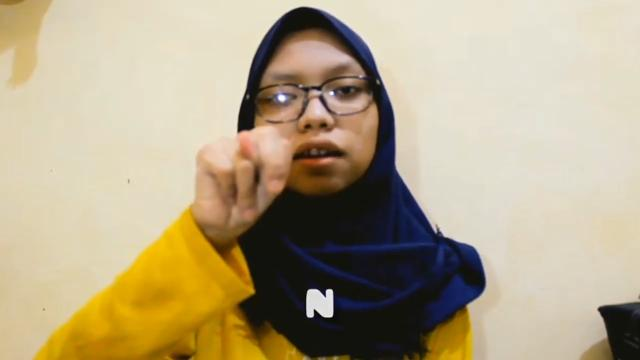N: (190, 123, 296, 231)
